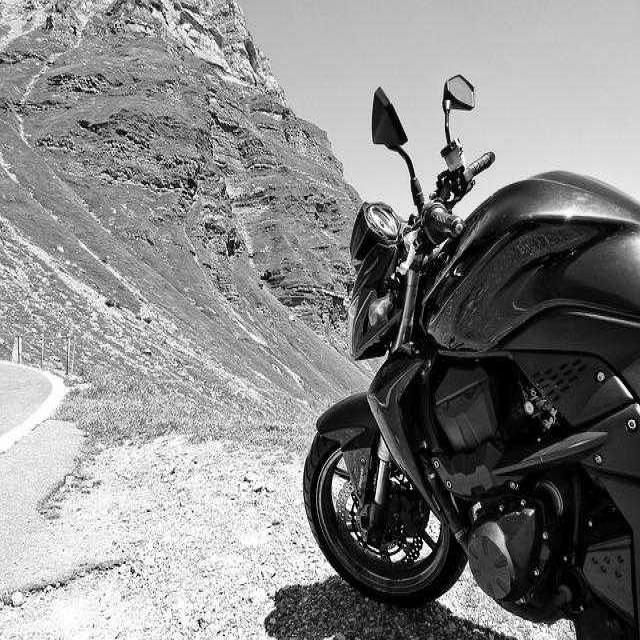Motorcycle: (304, 90, 640, 637)
